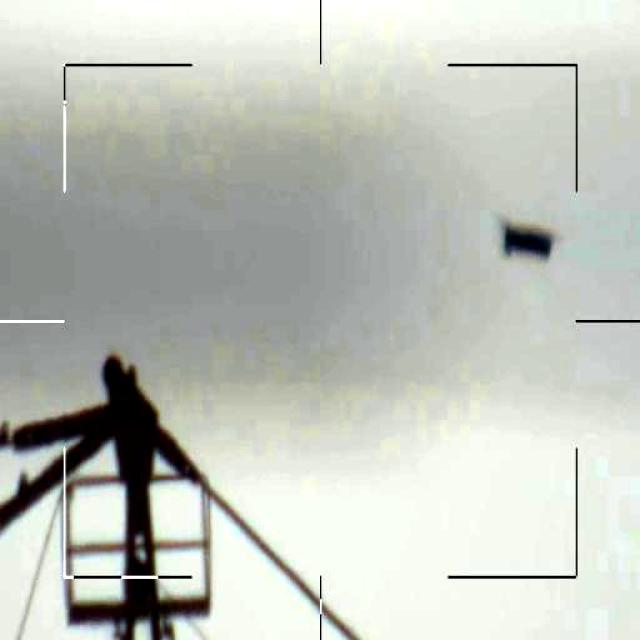bird: (504, 218, 570, 269)
